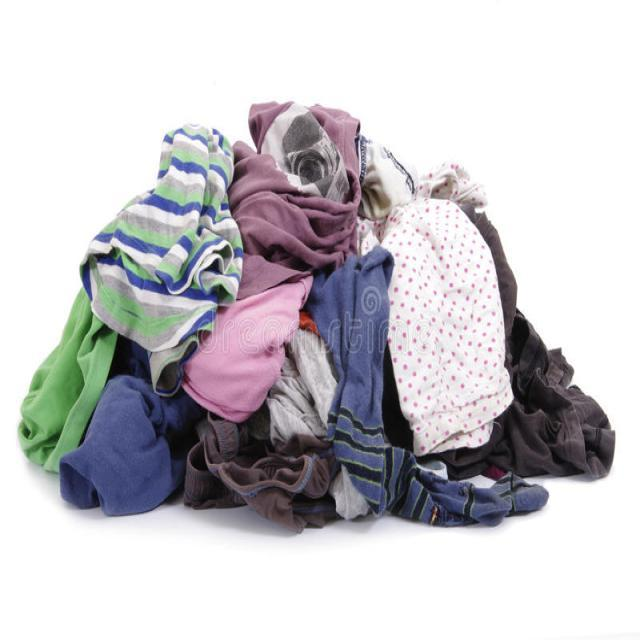clothes: (167, 138, 568, 508)
